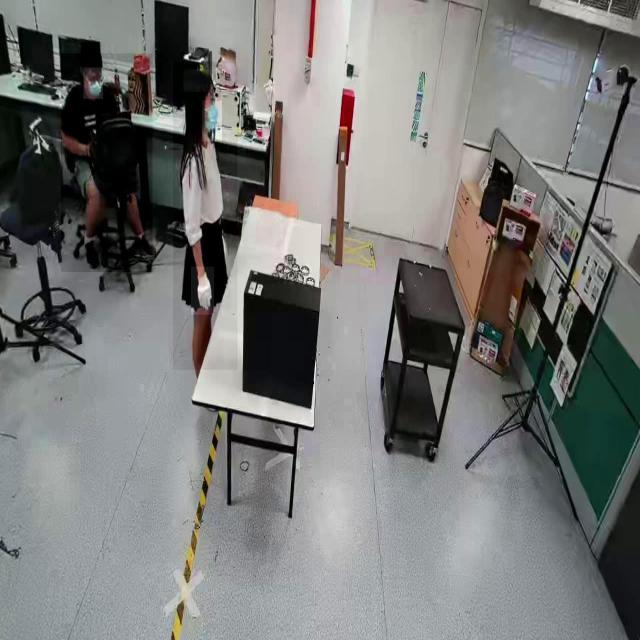face_mask: (202, 100, 222, 142), (84, 68, 104, 100)
hand_glove: (191, 266, 215, 316)
head_nohelmet: (184, 70, 214, 92), (80, 42, 102, 68)
person: (61, 53, 153, 273), (173, 61, 238, 371)
